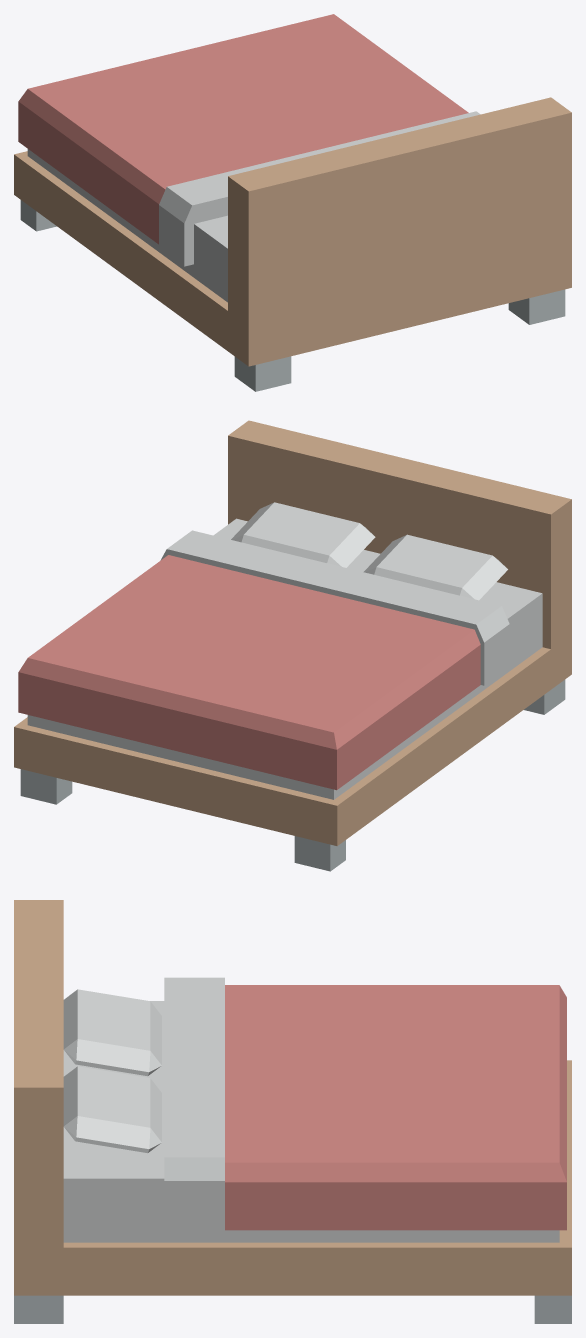
The model's file is bed-double.glb.
3 renders of one model, top to bottom at view 1: azimuth 30°, elevation 25°; view 2: azimuth 150°, elevation 25°; view 3: azimuth 270°, elevation 25°, orthographic. The views are drawn at different scales.
Parts seen in each view (by area): view 1: bed-double; view 2: bed-double; view 3: bed-double.
Part boxes in pixels (bbox=[...]): bed-double: bbox=[14, 14, 571, 391]; bed-double: bbox=[14, 420, 571, 871]; bed-double: bbox=[14, 900, 571, 1323].
Size of the model in its own units: 1.6 by 0.95 by 2.
